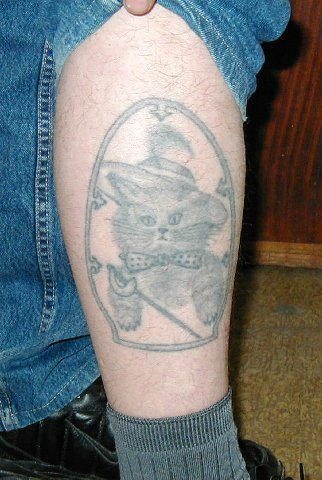tatu8_kot: (91, 93, 232, 348)
